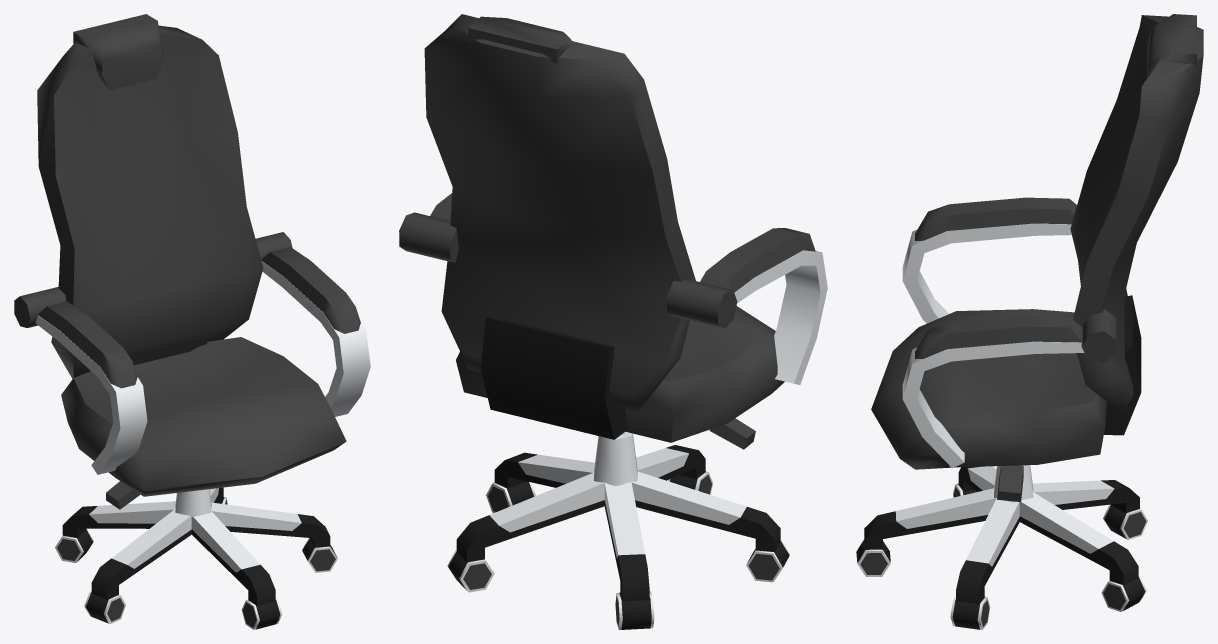
The model's file is office_chair_001.glb.
3 renders of one model, left to right at view 1: azimuth 30°, elevation 25°; view 2: azimuth 150°, elevation 25°; view 3: azimuth 270°, elevation 25°, orthographic. The views are drawn at different scales.
Parts seen in each view (by area): view 1: office_chair_001; view 2: office_chair_001; view 3: office_chair_001.
Part boxes in pixels (left/top/right/bottom): office_chair_001: left=14, top=14, right=370, bottom=629; office_chair_001: left=399, top=14, right=827, bottom=629; office_chair_001: left=856, top=14, right=1203, bottom=629.
Bounding box in the file's own units: 0.6549 × 1.17 × 0.6889.
Materials: 1 (1 with a texture image).
